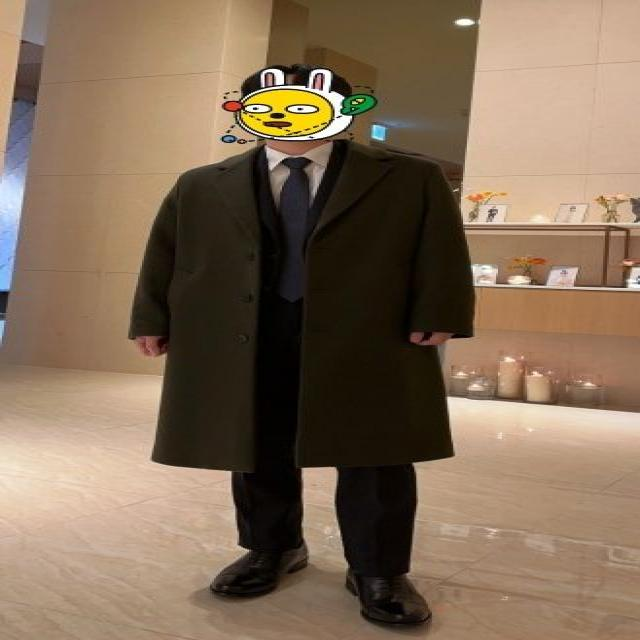coat: (124, 143, 478, 471)
slacks: (234, 295, 418, 572)
